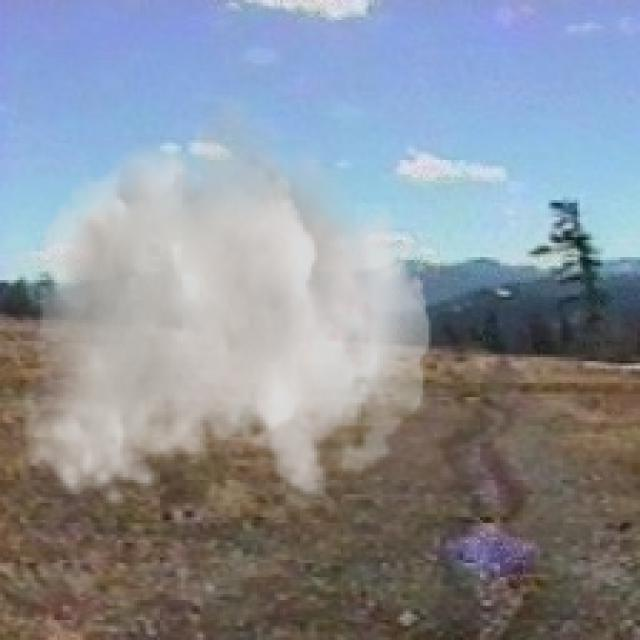Smoke: (19, 91, 432, 508)
